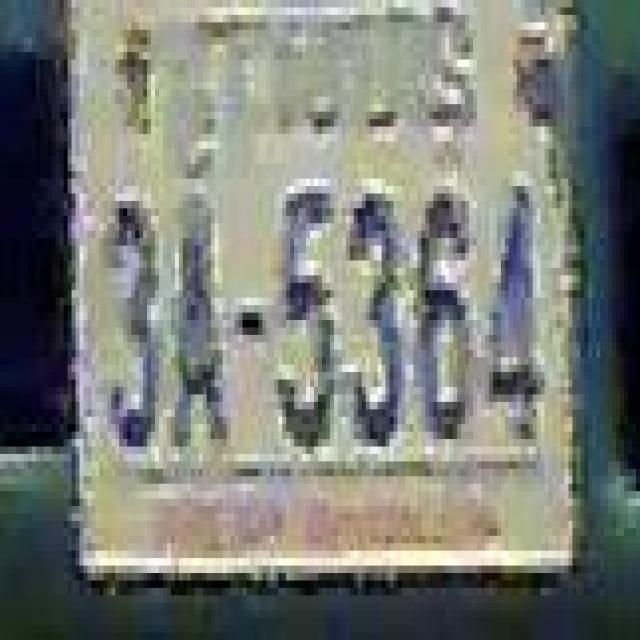Preah_Sihanouk: (159, 8, 477, 185)
